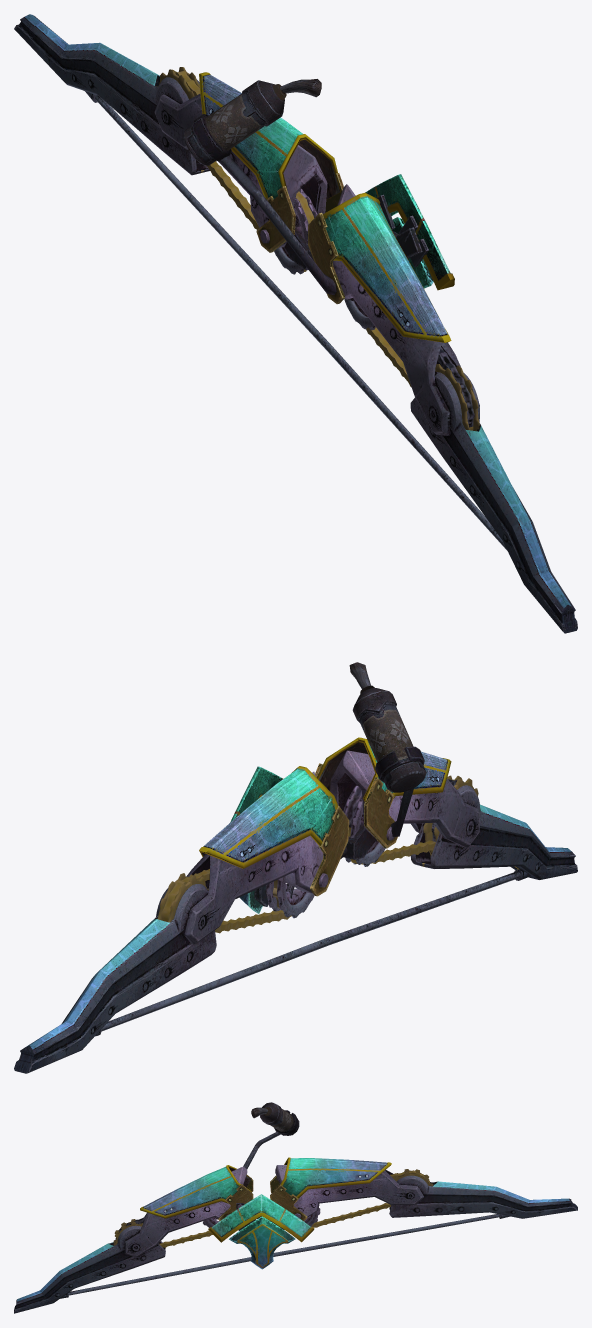
File: bs_bow007.obj
The picture shows the model from 3 angles, top to bottom: view 1: azimuth 30°, elevation 25°; view 2: azimuth 150°, elevation 25°; view 3: azimuth 270°, elevation 25°; orthographic projection. The views are drawn at different scales.
Parts seen in each view (by area): view 1: bs_bow007_000_LOD_1, bs_bow007_001_LOD_1, bs_bow007_004_LOD_1, bs_bow007_005_LOD_1, bs_bow007_003_LOD_1; view 2: bs_bow007_001_LOD_1, bs_bow007_000_LOD_1, bs_bow007_004_LOD_1, bs_bow007_005_LOD_1, bs_bow007_003_LOD_1, bs_bow007_002_LOD_1; view 3: bs_bow007_001_LOD_1, bs_bow007_000_LOD_1, bs_bow007_003_LOD_1, bs_bow007_005_LOD_1, bs_bow007_004_LOD_1.
Boxes of the visible parts, x1,y1,x2,y2 form: bs_bow007_000_LOD_1: (308,184,577,633); bs_bow007_001_LOD_1: (14,14,343,274); bs_bow007_004_LOD_1: (183,79,336,295); bs_bow007_005_LOD_1: (95,95,507,550); bs_bow007_003_LOD_1: (365,174,454,290); bs_bow007_001_LOD_1: (14,766,349,1073); bs_bow007_000_LOD_1: (315,737,577,880); bs_bow007_004_LOD_1: (349,662,426,836); bs_bow007_005_LOD_1: (101,871,520,1031); bs_bow007_003_LOD_1: (230,766,282,913); bs_bow007_002_LOD_1: (285,823,377,883); bs_bow007_001_LOD_1: (270,1157,577,1227); bs_bow007_000_LOD_1: (14,1165,253,1313); bs_bow007_003_LOD_1: (208,1194,314,1269); bs_bow007_005_LOD_1: (68,1214,498,1295); bs_bow007_004_LOD_1: (243,1102,299,1169).
Size of the model in its own units: 54.34 by 98.6 by 255.
